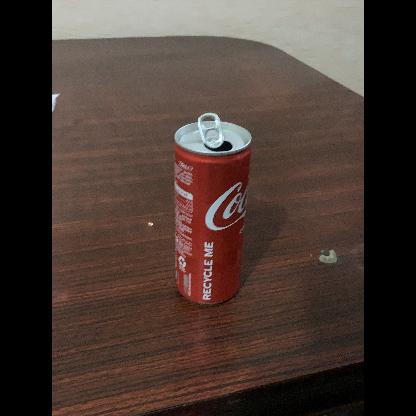Lid_Open: (194, 107, 242, 156)
Tin_Can: (166, 113, 258, 315)
